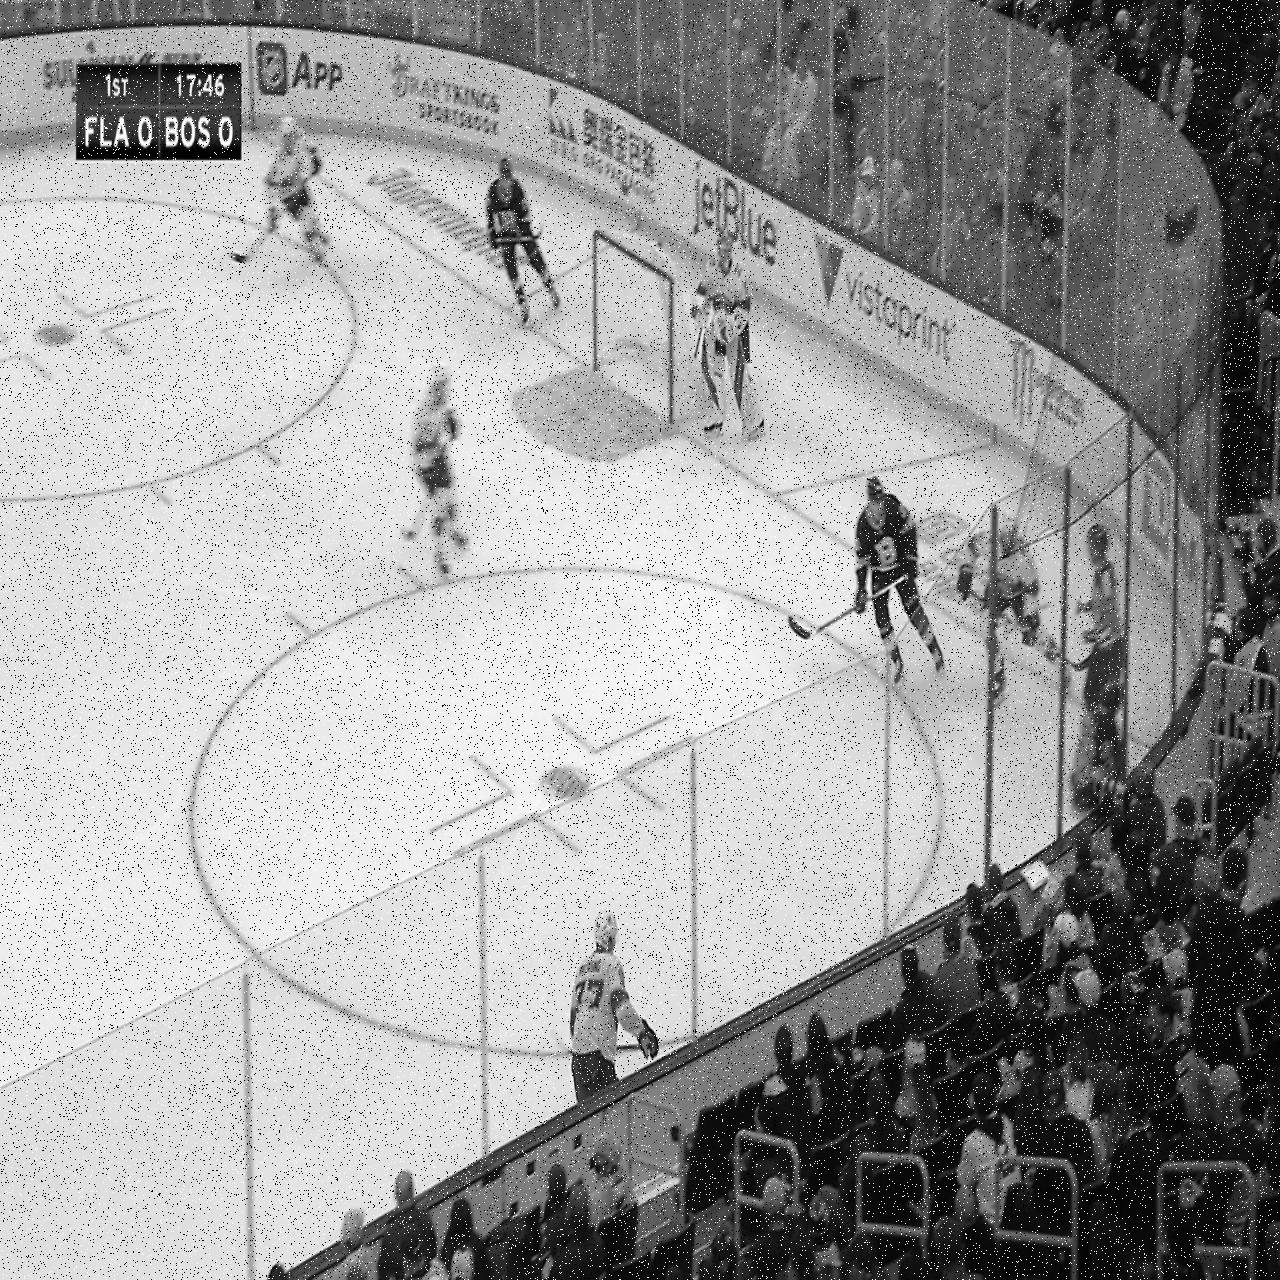Ad: (813, 223, 961, 396), (366, 159, 526, 287), (545, 79, 665, 209), (384, 40, 505, 141), (1001, 329, 1083, 467), (1146, 436, 1207, 613), (694, 151, 784, 266), (257, 41, 346, 111)
